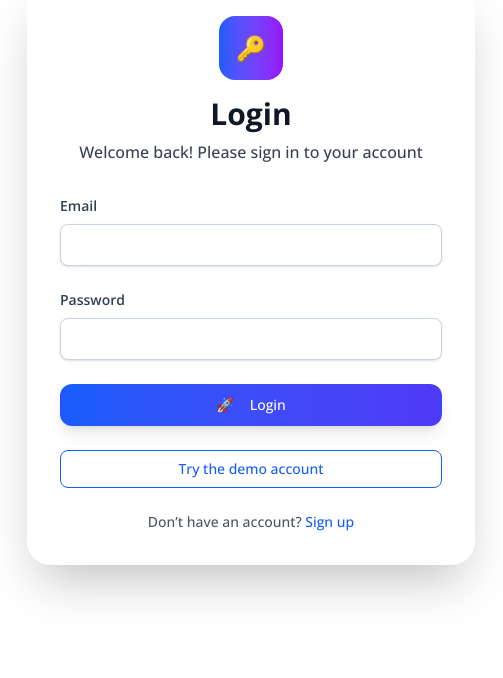
LoginForm Component › shows validation errors for empty fields
This screenshot has width=503, height=678.
Click the button "🚀 Login".
click(251, 405)  # box [60, 384, 442, 426]
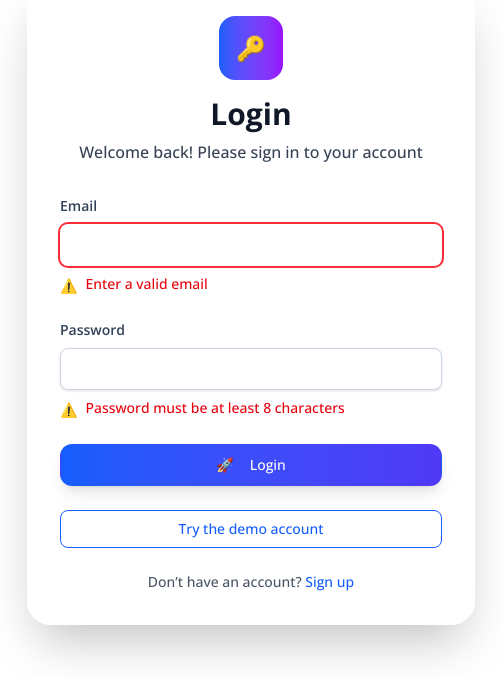
Expected: the text "Enter a valid email" is shown, [86, 274, 208, 294]
Expected: the text "Password must be at least 8 characters" is shown, [86, 398, 345, 418]
